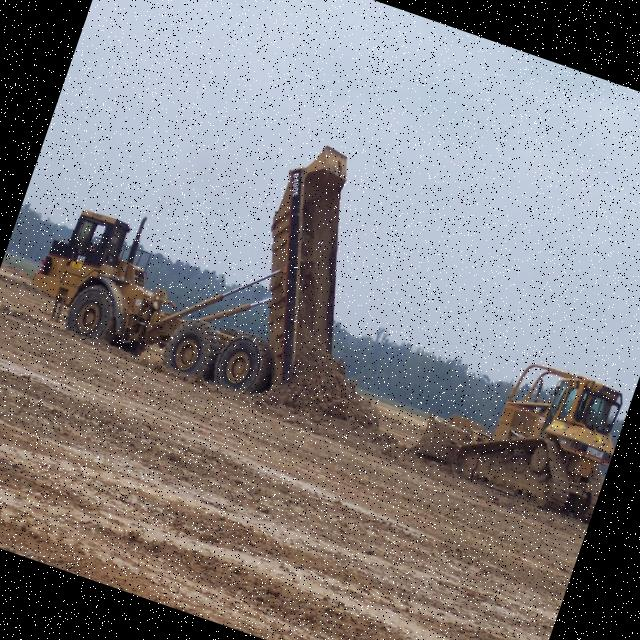Bulldozer: (392, 298, 640, 536)
Dump Truck: (27, 67, 410, 425)
